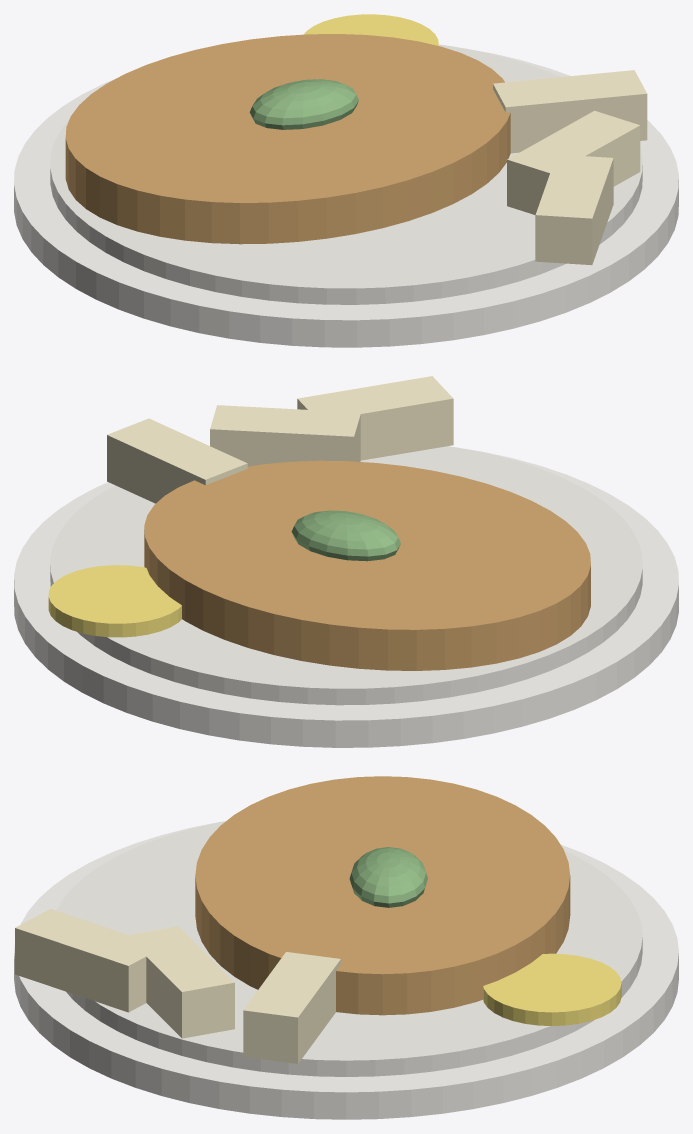
Rendered from plato-milanesa.glb.
The picture shows the model from 3 angles, top to bottom: view 1: azimuth 30°, elevation 25°; view 2: azimuth 150°, elevation 25°; view 3: azimuth 270°, elevation 25°; orthographic projection.
Parts seen in each view (by area): view 1: plato_milanesa; view 2: plato_milanesa; view 3: plato_milanesa.
Part boxes in pixels (<box>): plato_milanesa: <box>14,14,678,347</box>; plato_milanesa: <box>14,376,678,747</box>; plato_milanesa: <box>14,776,678,1119</box>.
Bounding box in the file's own units: 0.22 × 0.0402 × 0.22.
